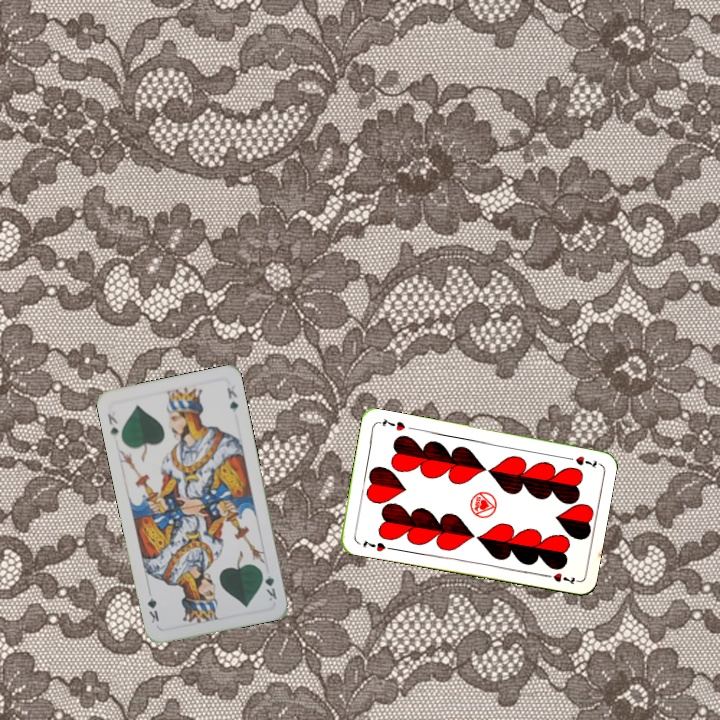GK: (257, 565, 279, 604), (103, 409, 121, 438)
H7: (561, 452, 601, 470), (359, 536, 388, 554)
